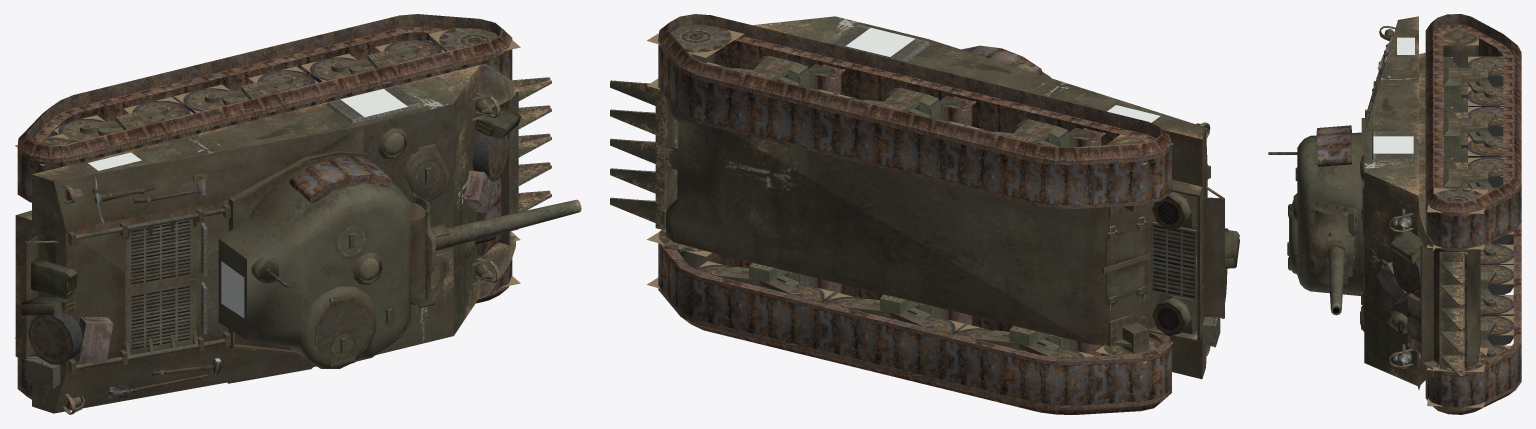
File: vehicle_american_sherman.glb
The picture shows the model from 3 angles, left to right: view 1: azimuth 30°, elevation 25°; view 2: azimuth 150°, elevation 25°; view 3: azimuth 270°, elevation 25°; orthographic projection. The views are drawn at different scales.
Bounding box in the file's own units: 263 × 115 × 124.
Materials: 6 (6 with a texture image).
